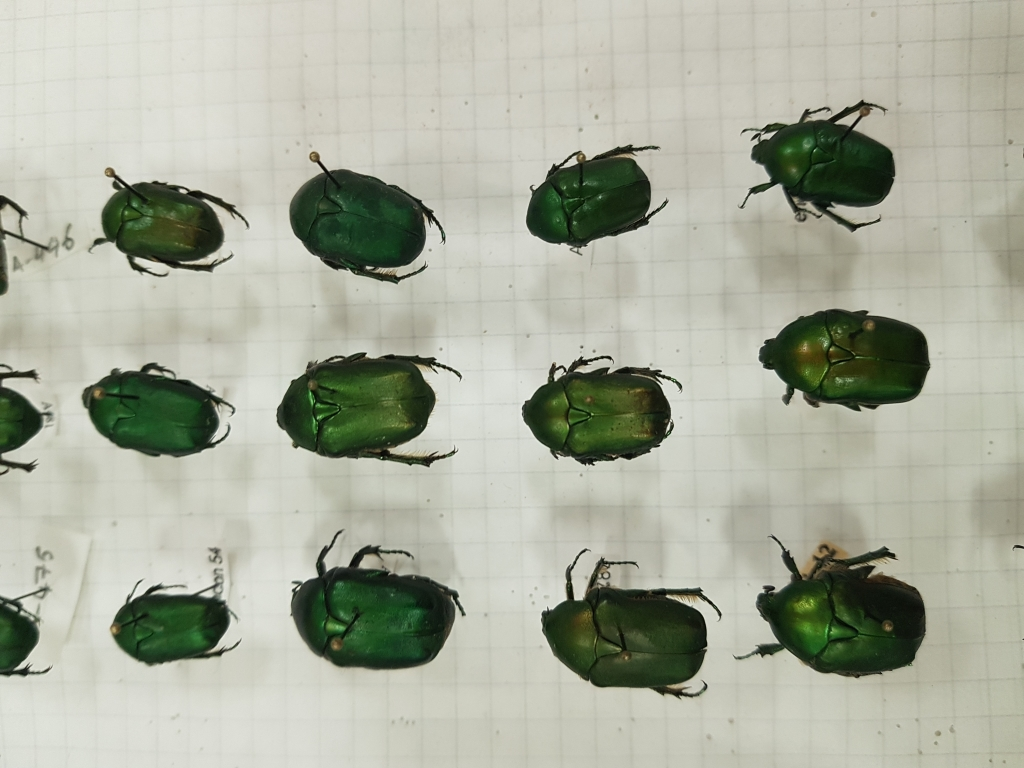Protaetia_ungarica_americana: (534, 543, 728, 702), (738, 534, 953, 676), (267, 345, 470, 472), (277, 151, 454, 292), (730, 94, 904, 234), (517, 343, 691, 479), (80, 148, 253, 284), (750, 299, 943, 407), (522, 134, 670, 254)
